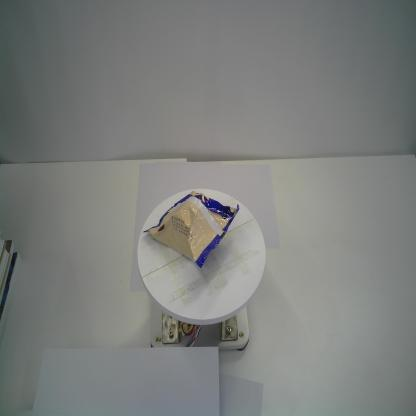Dessert: (140, 188, 241, 271)
